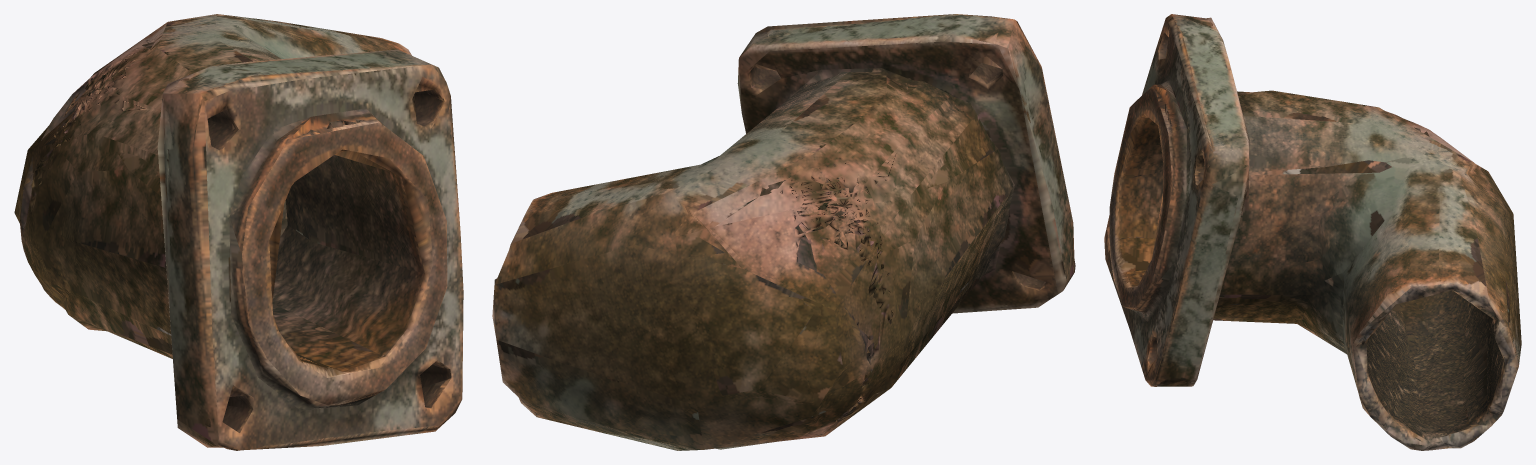
Rendered from broken_pipe_elbow.glb.
3 views of the same model, side by side, from view 1: azimuth 30°, elevation 25°; view 2: azimuth 150°, elevation 25°; view 3: azimuth 270°, elevation 25° (orthographic). The views are drawn at different scales.
Size of the model in its own units: 0.353 by 0.325 by 0.4.
Materials: 1 (1 with a texture image).
